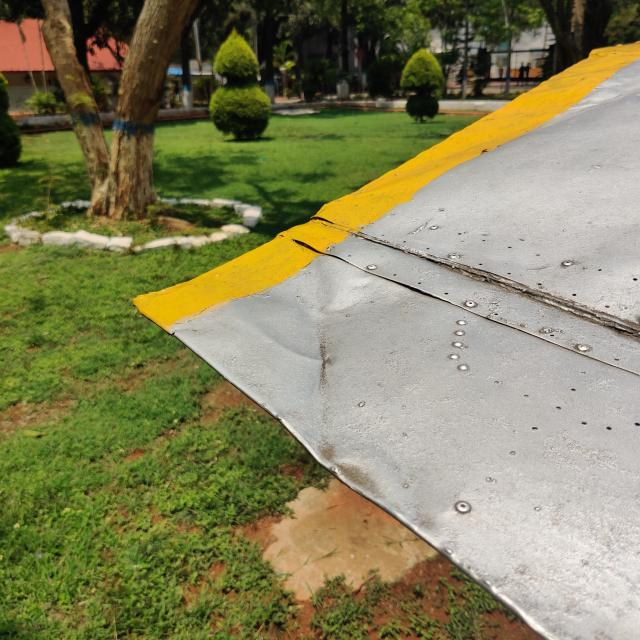dent: (297, 414, 393, 514)
